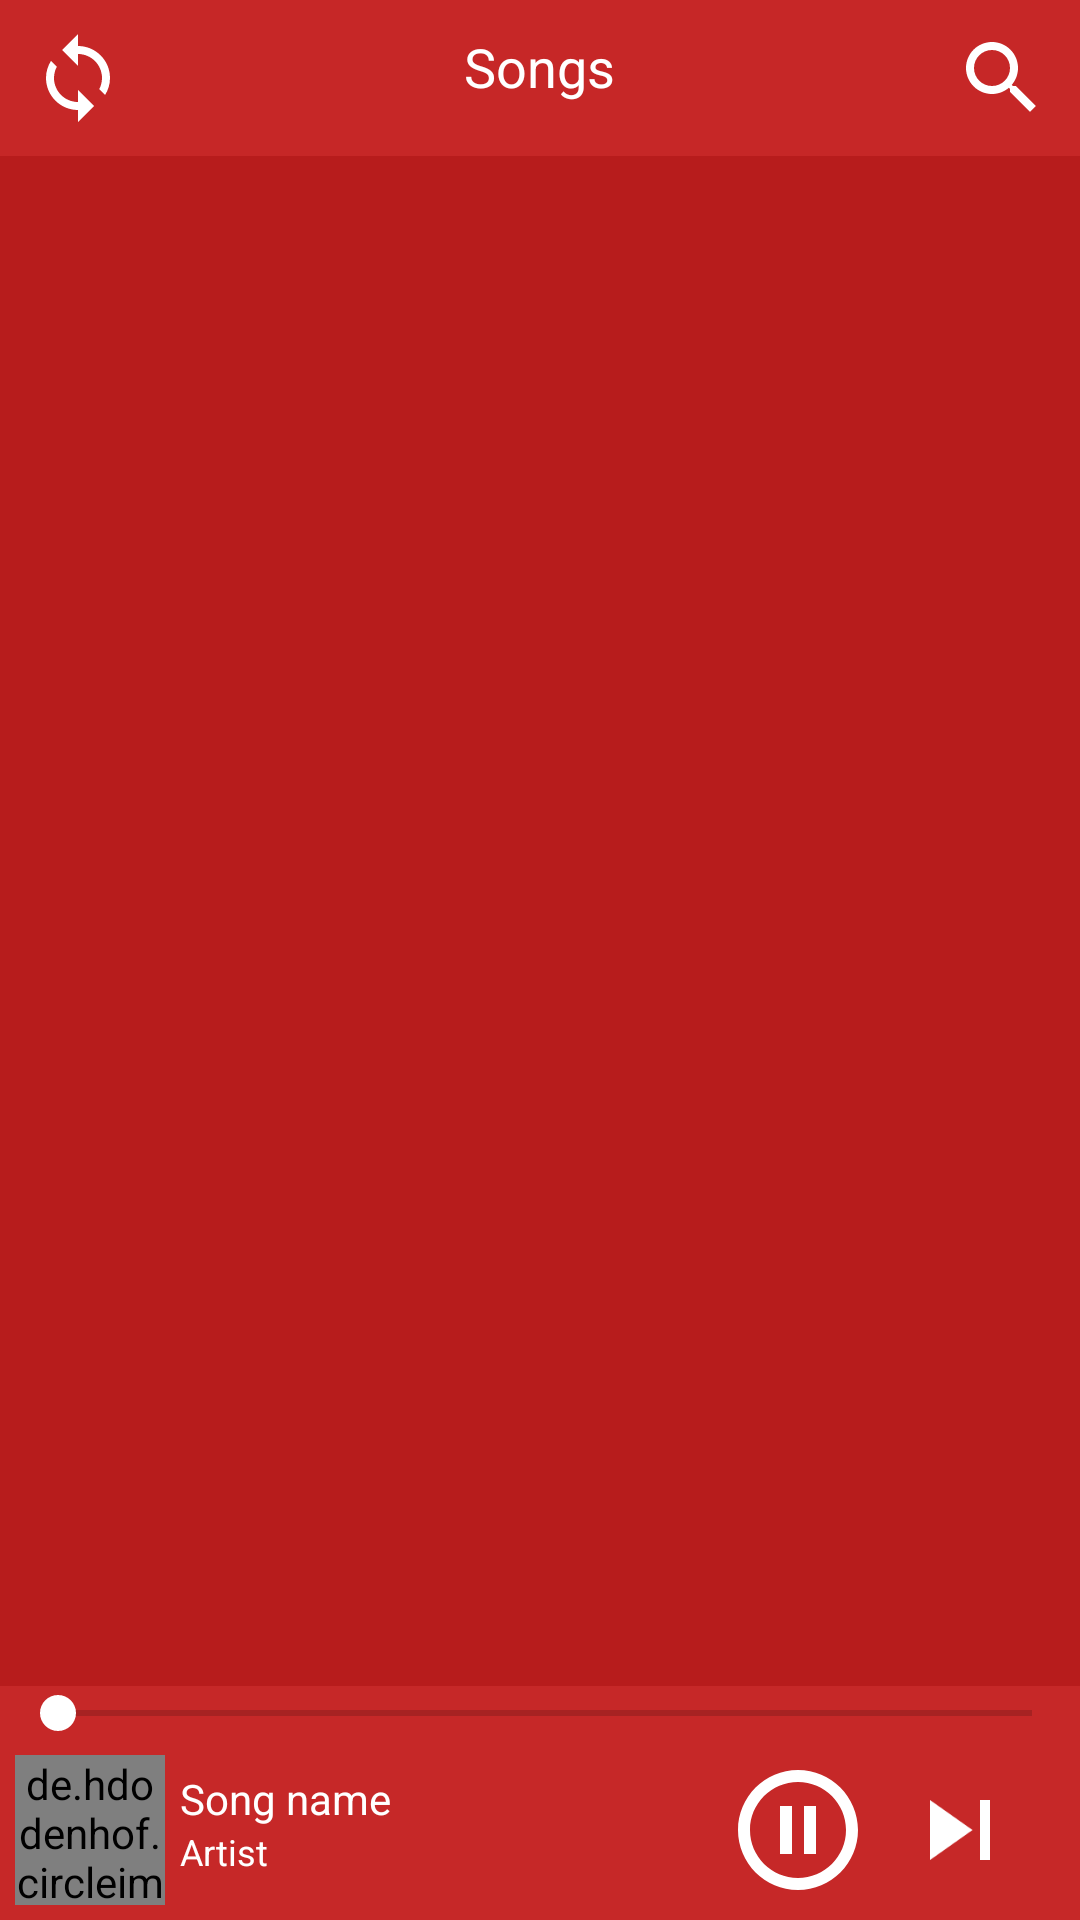

Screen size 1080×1920. Icon name, then its box in pixels as (x1, y1, x2, y2):
next: (930, 1800, 990, 1860)
pause circle: (738, 1770, 858, 1890)
search: (966, 42, 1036, 112)
sync: (46, 34, 110, 122)
